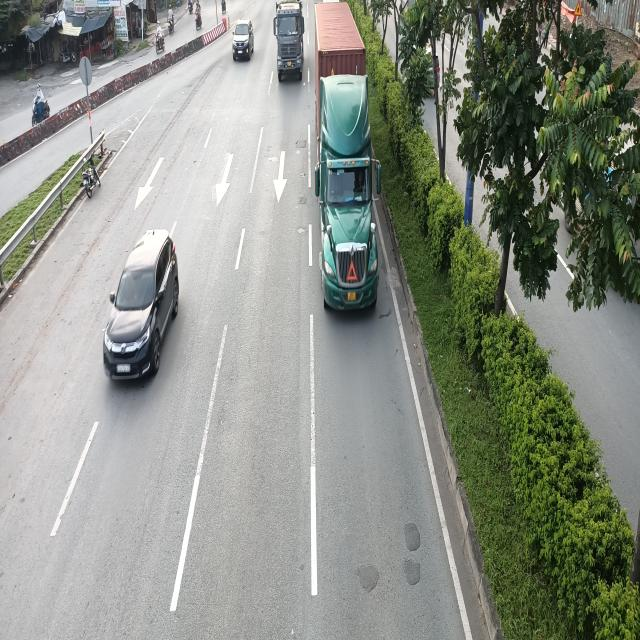car: (105, 228, 181, 380), (232, 18, 255, 62)
container: (312, 6, 381, 317), (273, 2, 305, 83)
